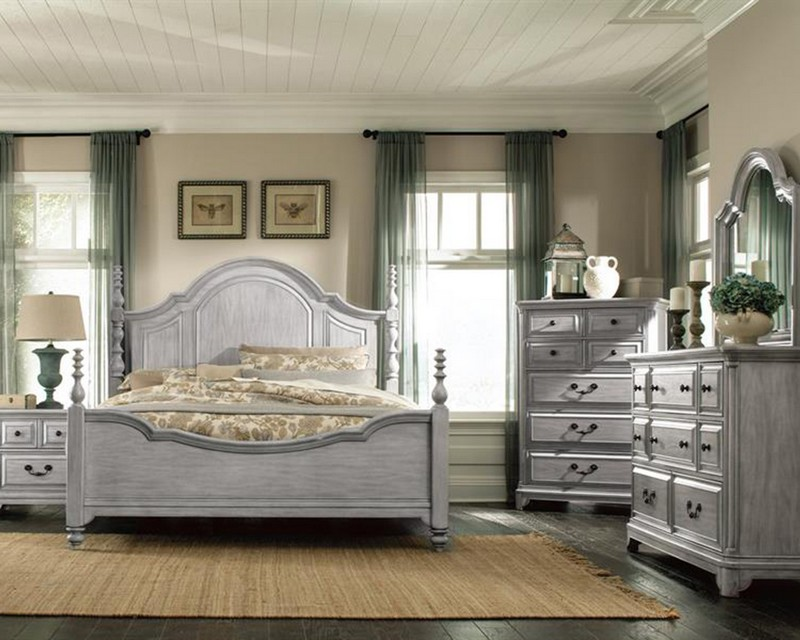bed: (63, 255, 453, 550)
lamp: (16, 294, 86, 408)
stool: (1, 412, 88, 510)
